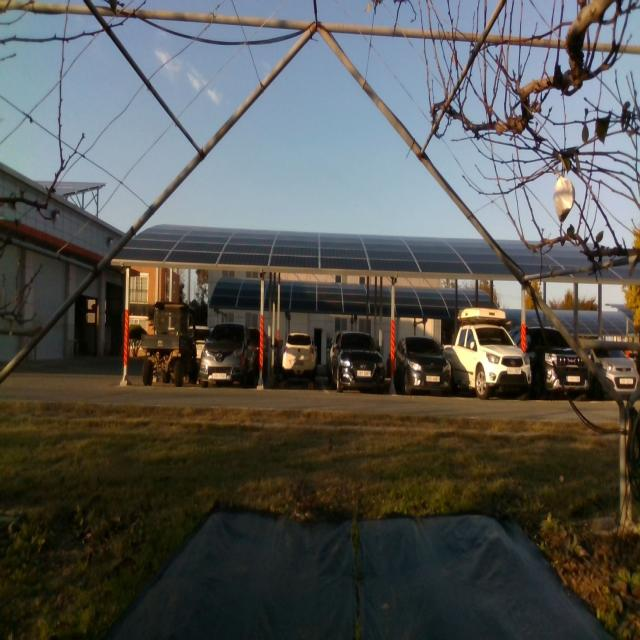pearbags: (553, 175, 574, 222)
